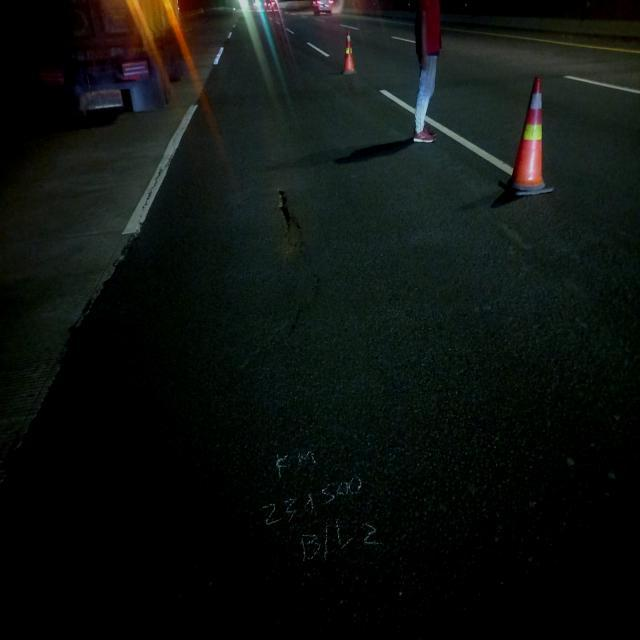Buraco: (273, 187, 307, 234)
